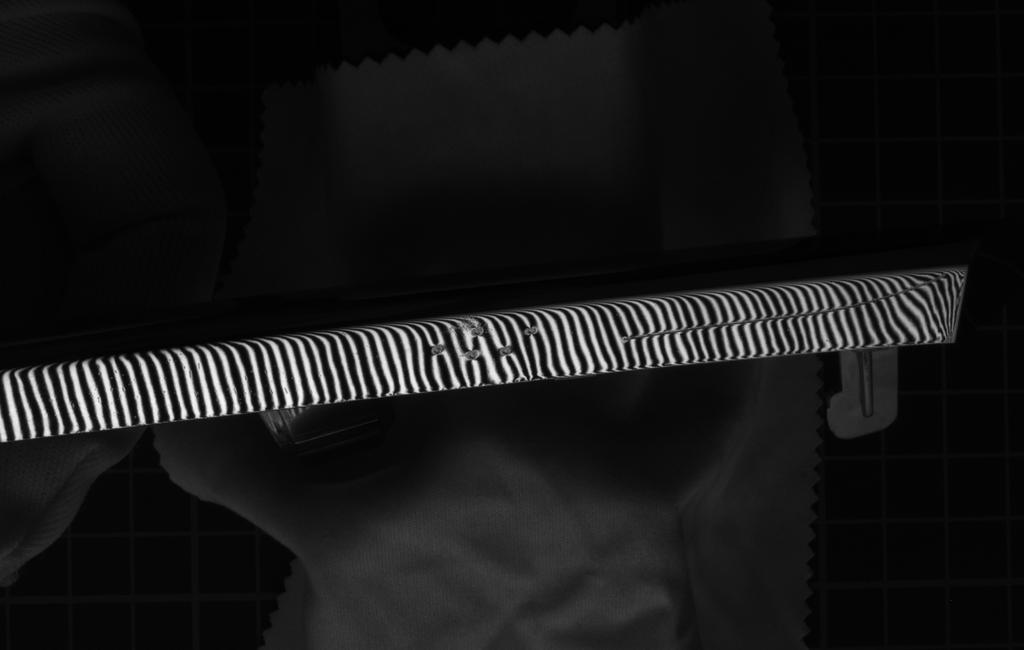Pierced: (495, 343, 520, 362), (427, 338, 446, 360), (518, 320, 542, 337), (470, 318, 487, 342), (463, 347, 485, 365)
Scratch: (614, 270, 949, 347)
